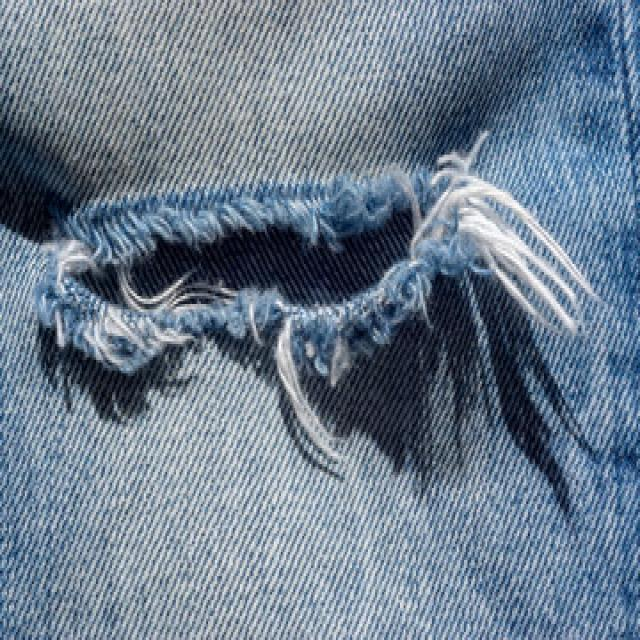Hole: (32, 128, 592, 457)
